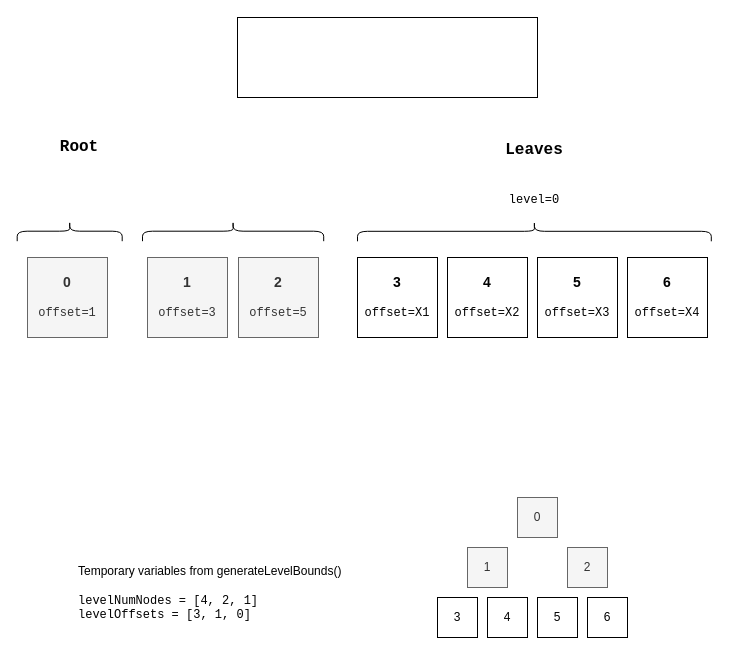
Image size: 730x655. Some labels were removed from this diagram. Here are the shapes that lost their labels. From the top down, the box of each, then its label:
(236, 16, 538, 98): nodeSize = 2 numItems = 4 numNodes = 7 levelBounds = [ [3, 7], [1, 3], [0, 1] ]
(16, 220, 122, 241): level=2
(142, 220, 324, 241): level=1
